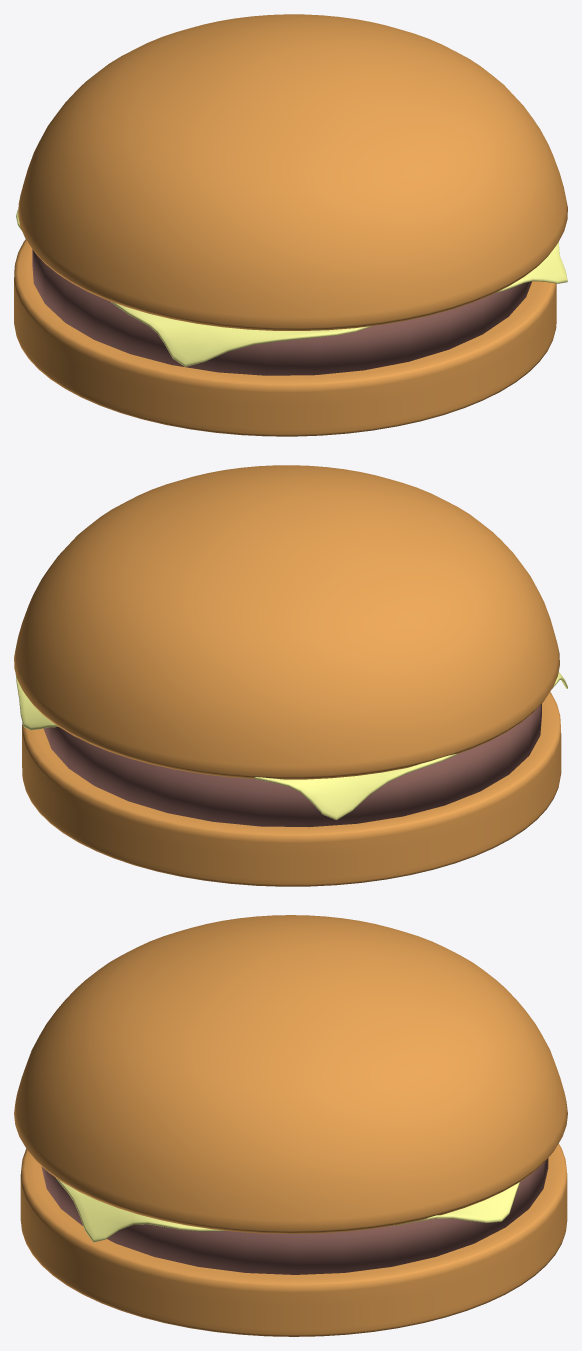
The model's file is Burger (1).fbx.
3 views of the same model, one above another, from view 1: azimuth 30°, elevation 25°; view 2: azimuth 150°, elevation 25°; view 3: azimuth 270°, elevation 25° (orthographic).
Visible parts, largest first — view 1: Sphere.007, Circle, Plane.001; view 2: Sphere.007, Circle, Plane.001; view 3: Sphere.007, Circle, Plane.001.
Part boxes in pixels (bbox=[...]): Sphere.007: bbox=[14, 14, 567, 436]; Circle: bbox=[32, 249, 531, 375]; Plane.001: bbox=[16, 209, 567, 366]; Sphere.007: bbox=[14, 465, 561, 886]; Circle: bbox=[43, 704, 541, 827]; Plane.001: bbox=[15, 672, 567, 819]; Sphere.007: bbox=[14, 915, 567, 1336]; Circle: bbox=[41, 1158, 548, 1274]; Plane.001: bbox=[55, 1177, 519, 1242].
Bounding box in the file's own units: 18.37 × 9.89 × 18.25.
